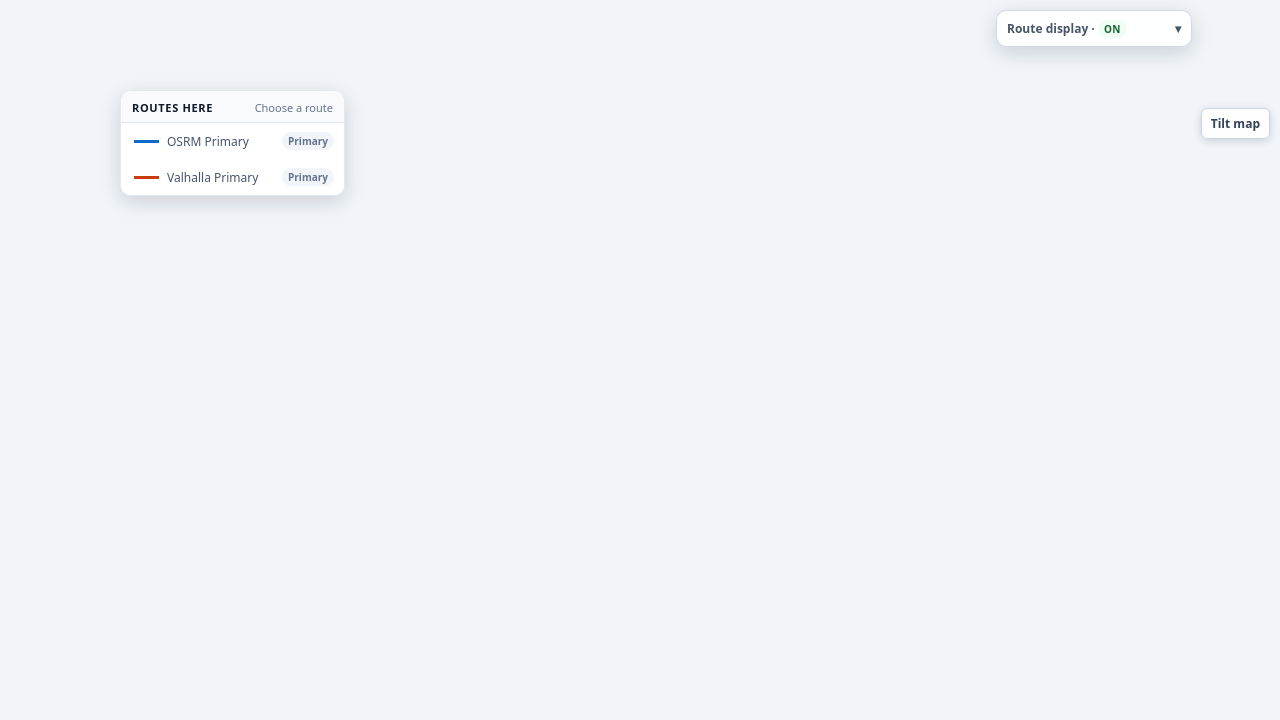
Test: MapView route rendering (Task 16) › shows a deduplicated chooser for multiple visible routes and selects the requested row
This screenshot has width=1280, height=720.
Expected: the dialog "Routes here" is shown, 120,90 -> 345,196
Expected: the number of buttons "OSRM Primary Primary" is 1, 121,123 -> 344,159
Click the button "Valhalla Primary Primary". click: (232, 177)
box: 121,159 -> 344,195
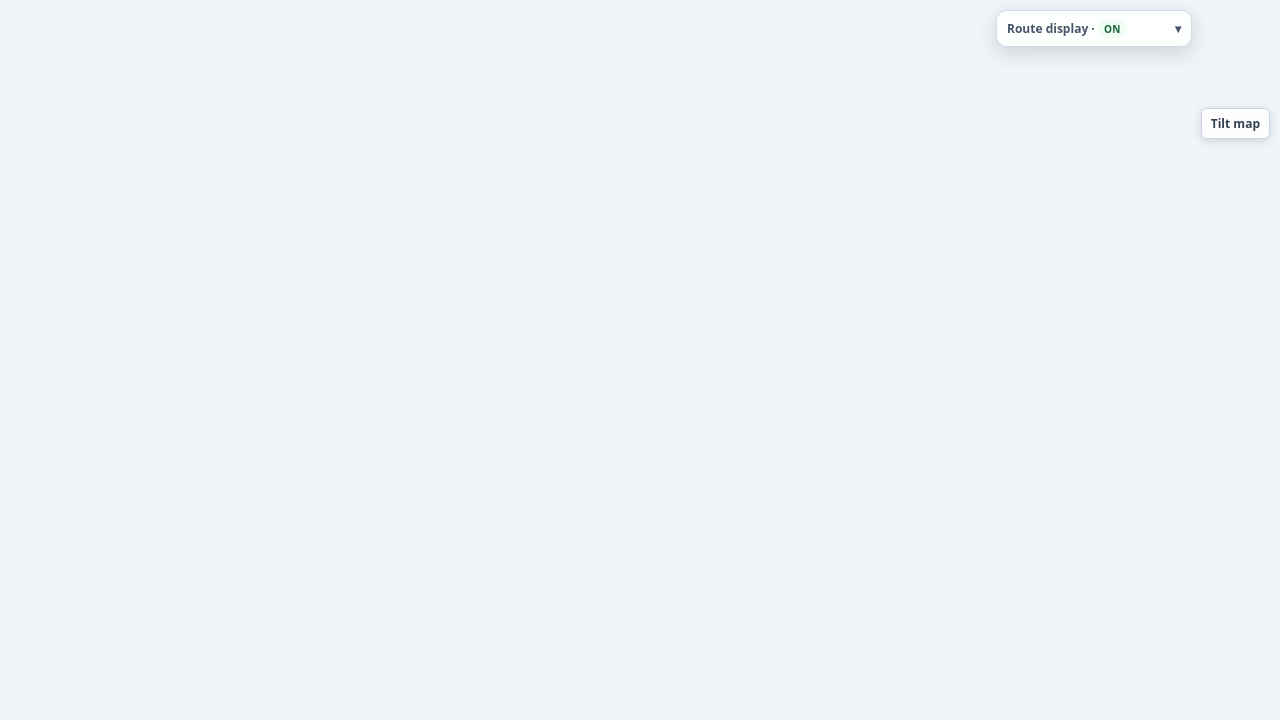
Expected: the text "Routes here" is gone
